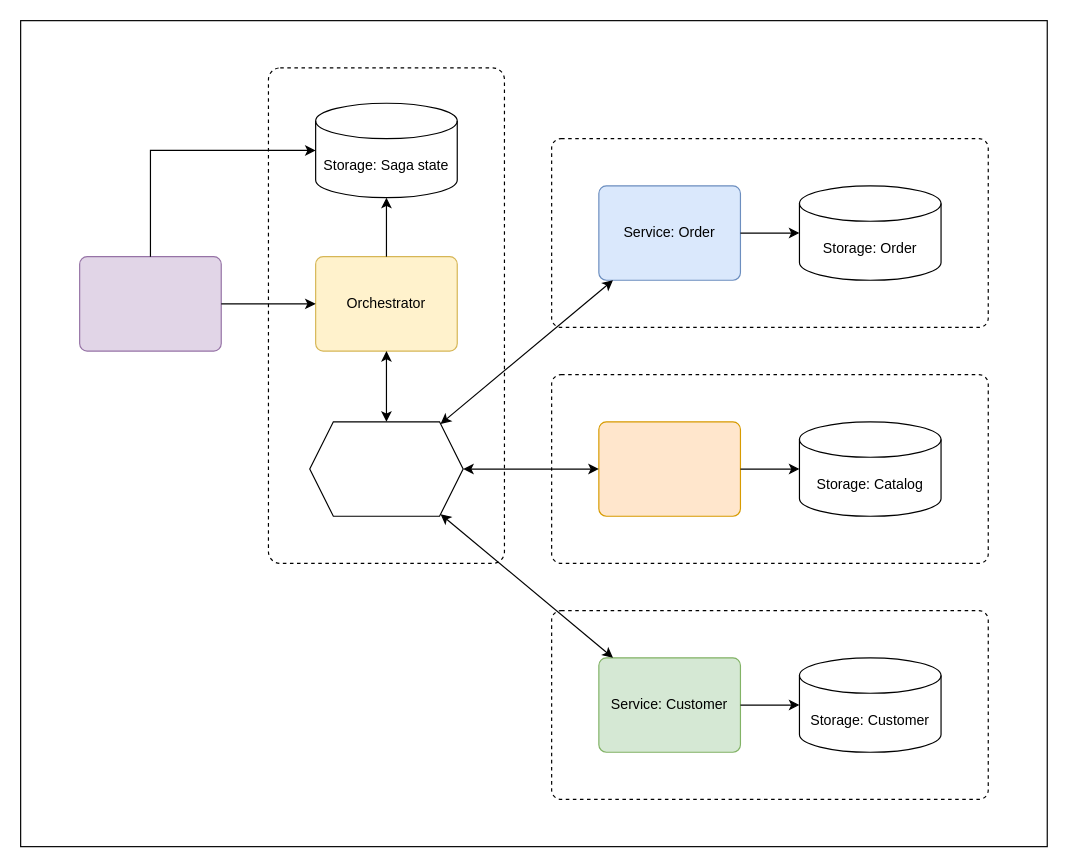
The diagram is 1068 pixels wide and 867 high, and some of its shapes have lost their labels. The centre of each missing label's shape, as x and y in pixels:
"Communication bus" belongs at point 386,468.
"Facade API" belongs at point 149,303.
"Service: Catalog" belongs at point 669,468.
